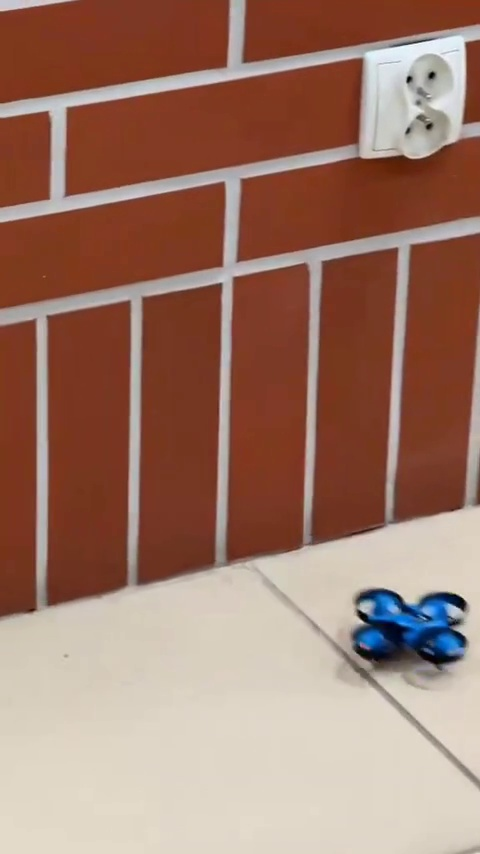drone: (346, 587, 475, 662)
